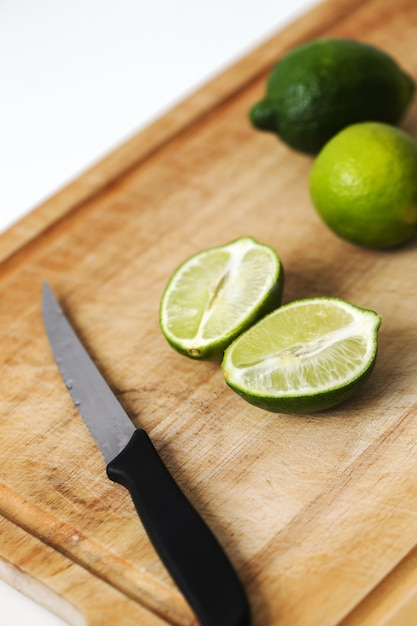knife: (40, 283, 254, 624)
